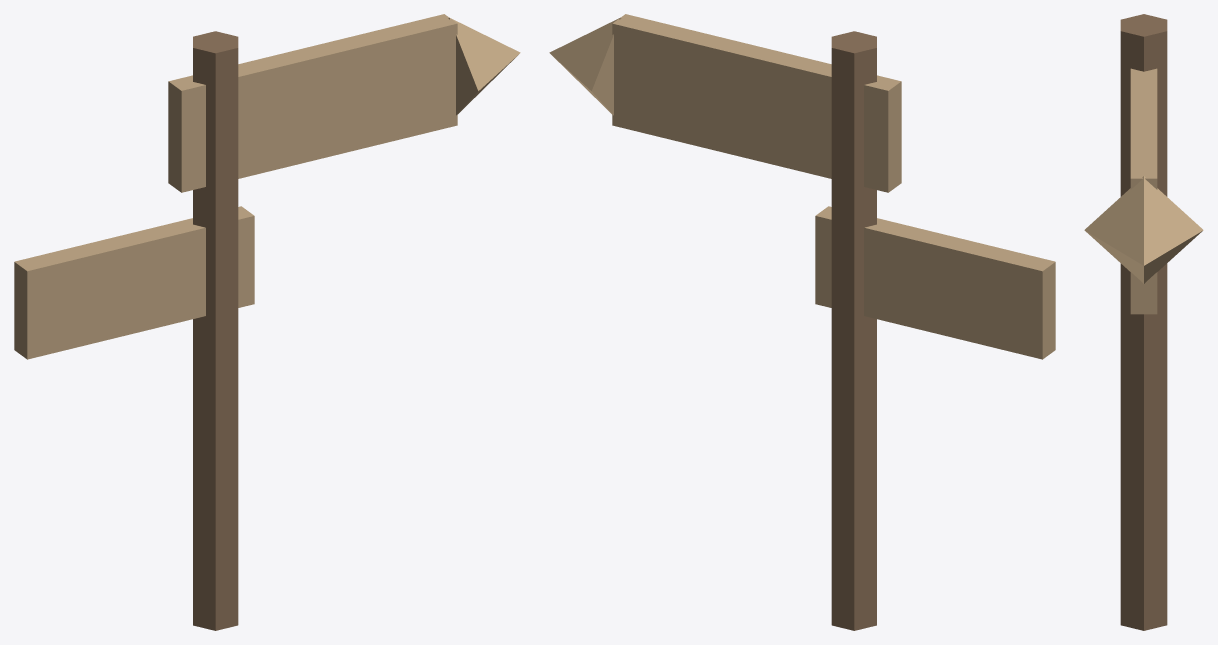
Rendered from sign_post.glb.
3 renders of one model, left to right at view 1: azimuth 30°, elevation 25°; view 2: azimuth 150°, elevation 25°; view 3: azimuth 270°, elevation 25°, orthographic. The views are drawn at different scales.
Visible parts, largest first — view 1: sign_post_01, sign_post_00, sign_post_03, sign_post_02; view 2: sign_post_01, sign_post_00, sign_post_03, sign_post_02; view 3: sign_post_00, sign_post_02, sign_post_01, sign_post_03.
Part boxes in pixels (x1=…): sign_post_01: x1=168, y1=14, x2=457, y2=192; sign_post_00: x1=193, y1=31, x2=238, y2=630; sign_post_03: x1=14, y1=206, x2=254, y2=359; sign_post_02: x1=448, y1=17, x2=520, y2=115; sign_post_01: x1=612, y1=14, x2=901, y2=192; sign_post_00: x1=831, y1=31, x2=876, y2=630; sign_post_03: x1=815, y1=206, x2=1055, y2=359; sign_post_02: x1=549, y1=17, x2=621, y2=115; sign_post_00: x1=1120, y1=14, x2=1167, y2=630; sign_post_02: x1=1084, y1=176, x2=1203, y2=283; sign_post_01: x1=1130, y1=68, x2=1157, y2=283; sign_post_03: x1=1130, y1=283, x2=1157, y2=314.
Size of the model in its own units: 1.54 by 1.7 by 0.31.
